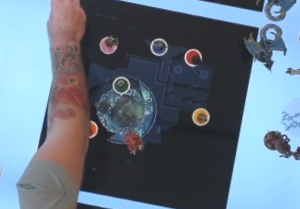blue: (145, 32, 172, 60)
green: (108, 73, 132, 97)
orange: (80, 117, 100, 139)
pink: (179, 44, 204, 70), (95, 33, 121, 57)
yellow: (183, 103, 211, 131)
